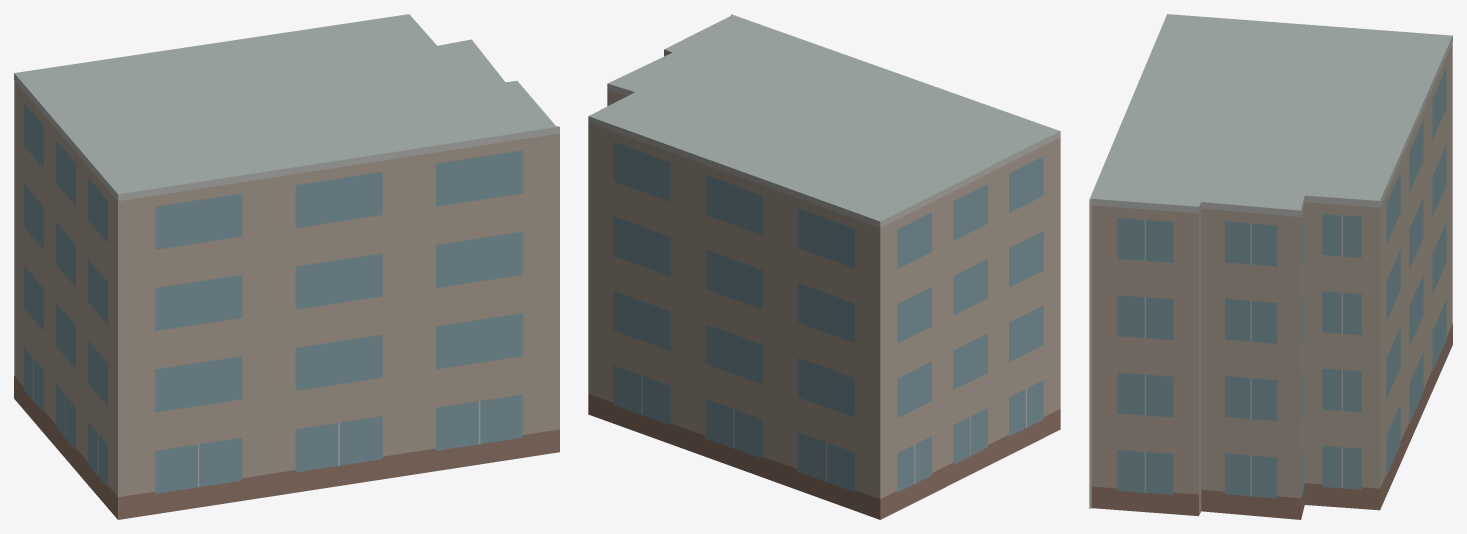
File: survey-upis-32595437.glb
3 views of the same model, side by side, from view 1: azimuth 30°, elevation 25°; view 2: azimuth 150°, elevation 25°; view 3: azimuth 270°, elevation 25° (orthographic). The views are drawn at different scales.
Parts seen in each view (by area): view 1: survey-upis-32595437.tmp; view 2: survey-upis-32595437.tmp; view 3: survey-upis-32595437.tmp.
Boxes of the visible parts, x1=… form: survey-upis-32595437.tmp: x1=14, y1=14, x2=559, y2=519; survey-upis-32595437.tmp: x1=588, y1=14, x2=1060, y2=519; survey-upis-32595437.tmp: x1=1089, y1=14, x2=1452, y2=519.
Bounding box in the file's own units: 15.76 × 11.55 × 12.32.
